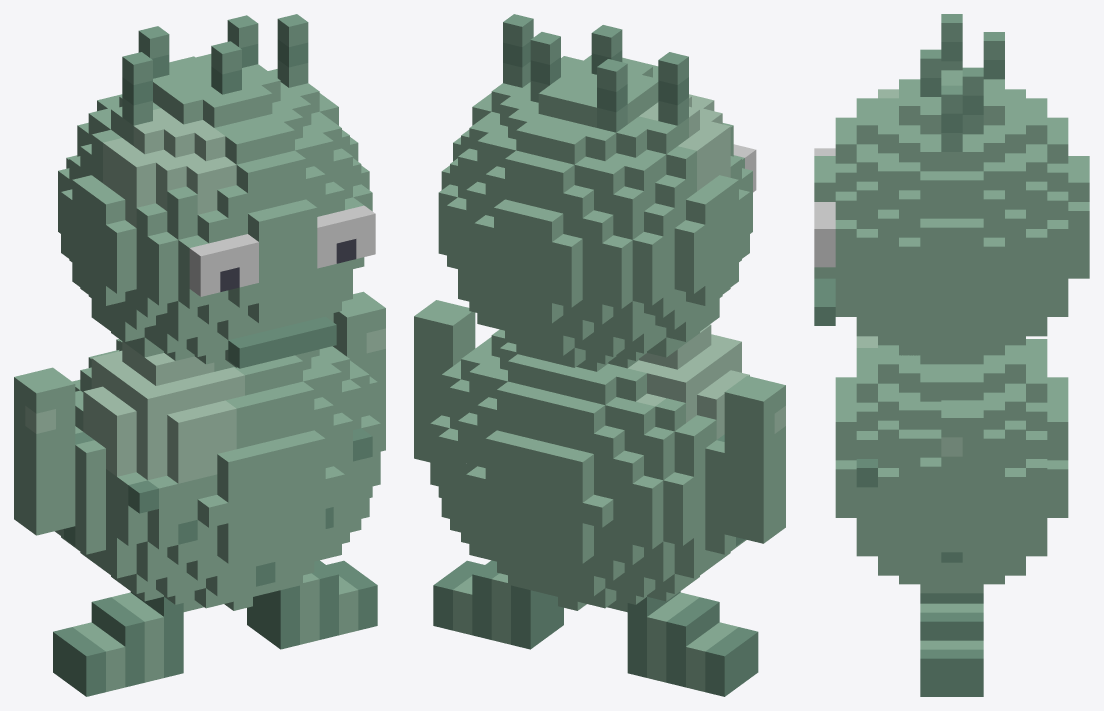
File: boss_gregg.glb
3 views of the same model, side by side, from view 1: azimuth 30°, elevation 25°; view 2: azimuth 150°, elevation 25°; view 3: azimuth 270°, elevation 25° (orthographic). The views are drawn at different scales.
Parts seen in each view (by area): view 1: body, head, armL, armR; view 2: body, head, armL, armR; view 3: head, body, armR.
Part boxes in pixels (box(x1,y1,x2,y2)): body: box(53, 339, 380, 696); head: box(58, 14, 375, 371); armL: box(14, 367, 75, 535); armR: box(333, 291, 385, 451); body: box(430, 324, 758, 696); head: box(438, 14, 756, 371); armL: box(724, 375, 785, 543); armR: box(414, 300, 475, 462); head: box(814, 14, 1089, 362); body: box(835, 336, 1068, 696); armR: box(941, 400, 983, 552).
Size of the model in its own units: 1.12 by 1.88 by 0.8125.
